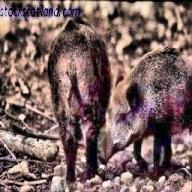boar: (98, 45, 192, 179), (46, 16, 112, 182)
